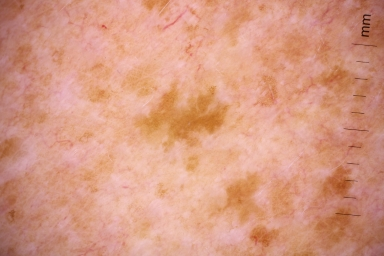melanoma: (135, 83, 227, 173)
